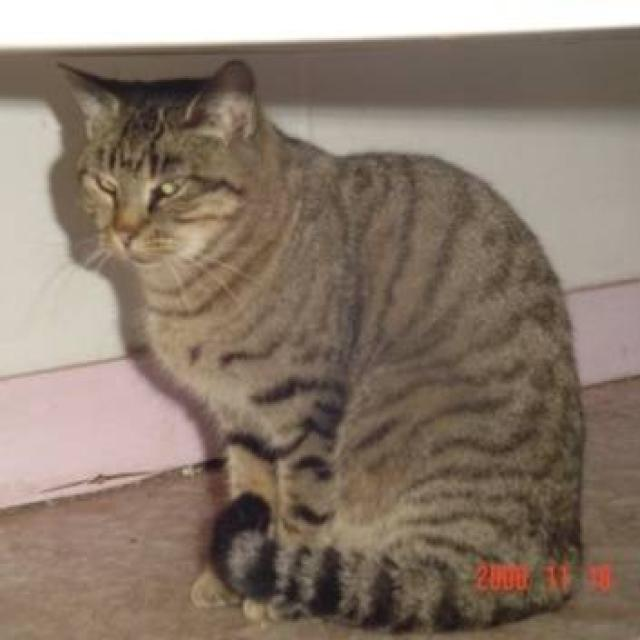cat: (54, 57, 586, 634)
